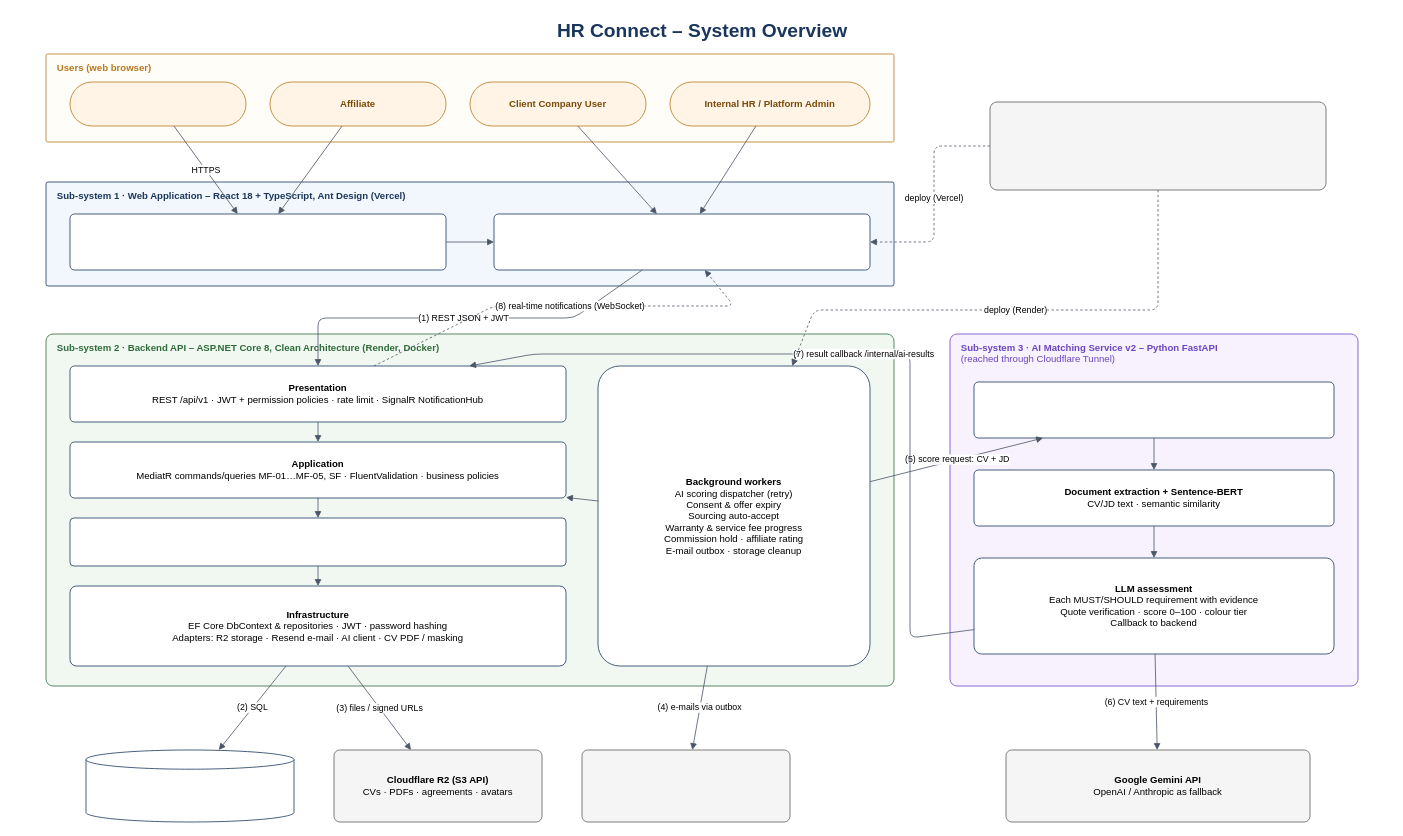
This 1403x836 diagram has some shape labels left out. Each missing label, with the centre of its shape:
API client (Axios, JWT) + SignalR client Zustand stores · route guards by role: point 681,241
Domain Entities · status constants · business rules: point 317,541
GitHub + GitHub Actions build · test (xUnit, Vitest, pytest) · deploy: point 1157,145
Guest / Candidate: point 157,103
PostgreSQL transactional data · audit log: point 189,785
Public site & role portals Candidate · Affiliate · Client · Internal HR · Admin: point 257,241
Resend e-mail API OTP · consent · notifications: point 685,785
Scoring API & persistent queue /score · status · health: point 1153,409
